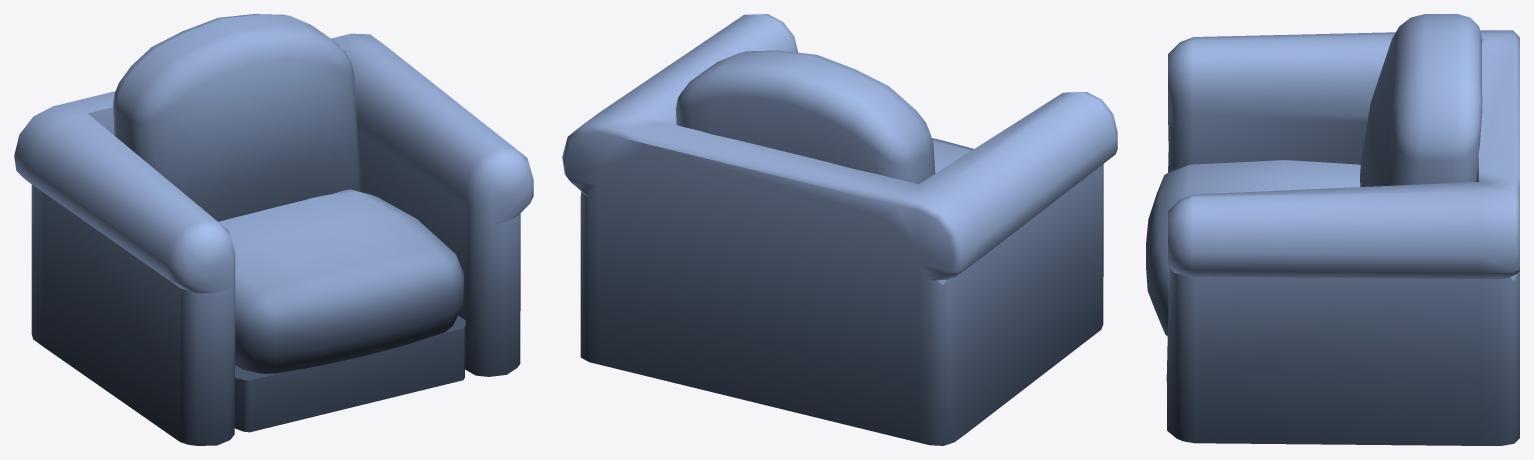
File: armchair.fbx
3 views of the same model, side by side, from view 1: azimuth 30°, elevation 25°; view 2: azimuth 150°, elevation 25°; view 3: azimuth 270°, elevation 25° (orthographic). The views are drawn at different scales.
Parts seen in each view (by area): view 1: armchair; view 2: armchair; view 3: armchair.
Boxes of the visible parts, x1,y1,x2,y2 form: armchair: [14, 14, 533, 445]; armchair: [562, 14, 1117, 445]; armchair: [1146, 14, 1519, 445].
Size of the model in its own units: 4.37 by 3.27 by 3.49.
